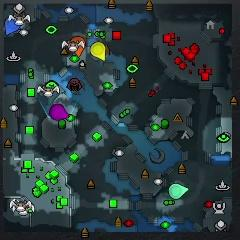p1: (5, 17, 21, 36)
p2: (168, 184, 189, 199)
p3: (50, 104, 70, 121)
p4: (91, 42, 106, 63)
p5: (68, 36, 87, 57)
